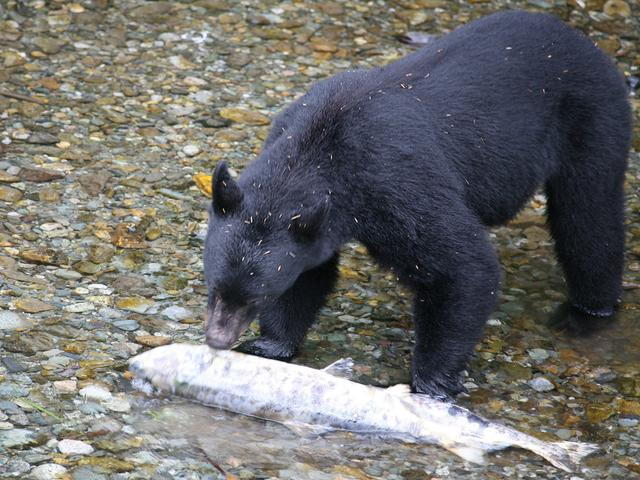Bear: (181, 23, 619, 421)
